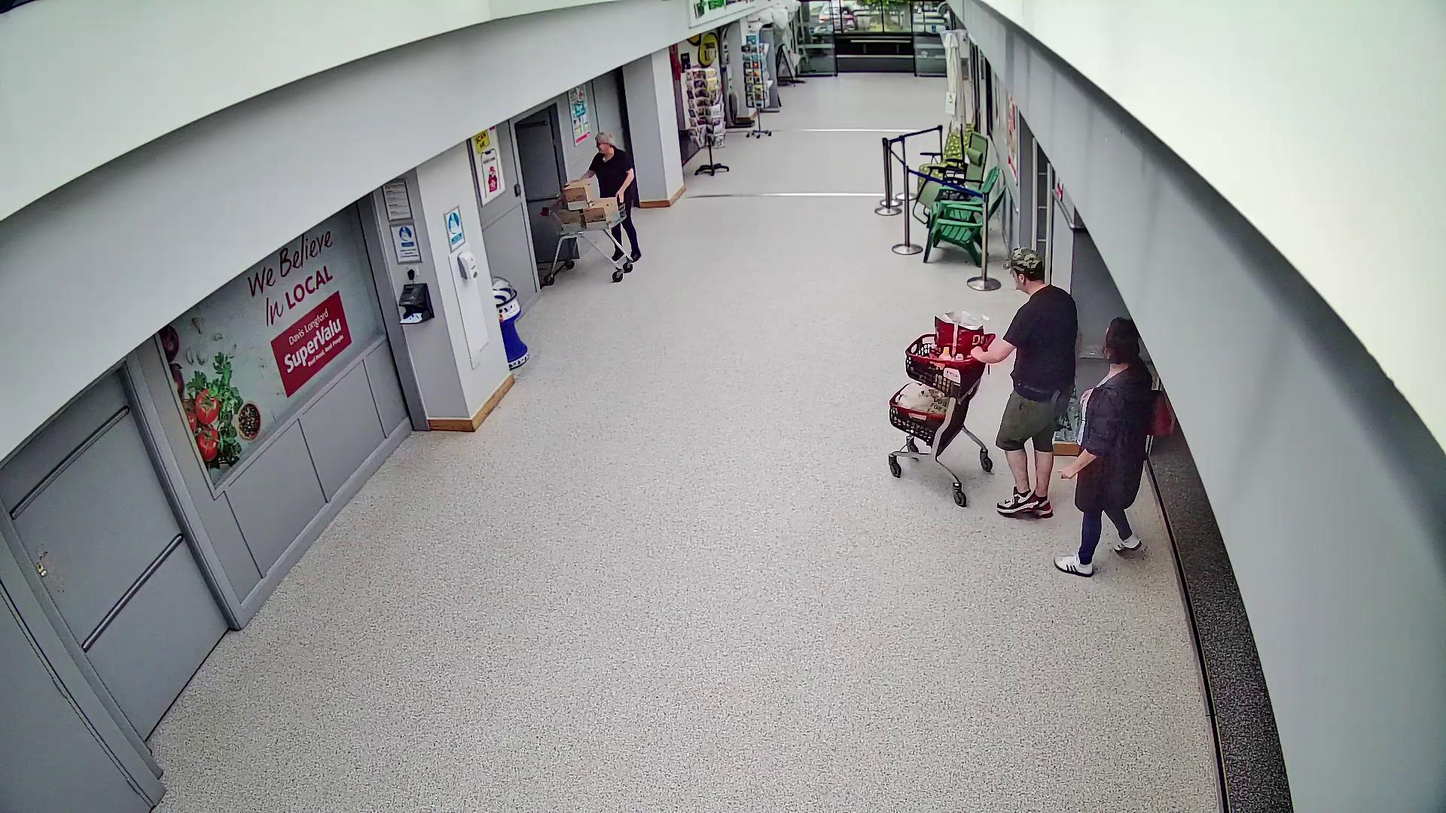filled-trolly: (888, 311, 996, 507)
person: (994, 249, 1078, 515)
person-with-filled-basket-trolly: (887, 247, 1079, 518)
